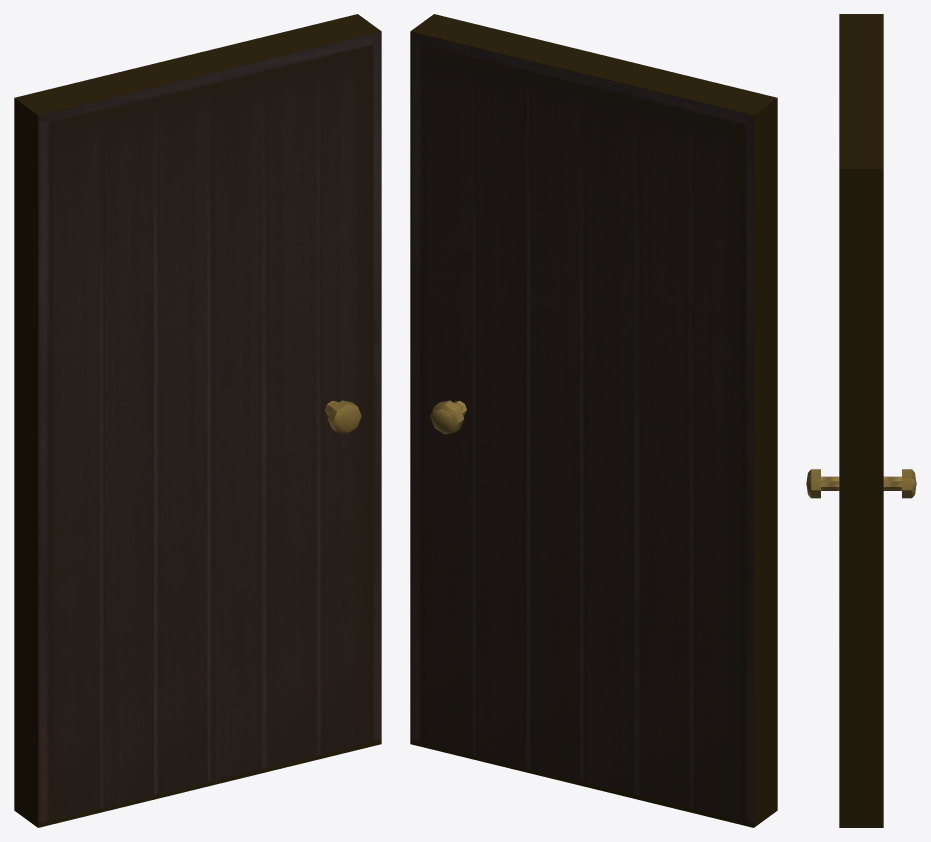
File: Door.fbx
3 views of the same model, side by side, from view 1: azimuth 30°, elevation 25°; view 2: azimuth 150°, elevation 25°; view 3: azimuth 270°, elevation 25° (orthographic). The views are drawn at different scales.
Visible parts, largest first — view 1: pCube15, pCylinder5; view 2: pCube15, pCylinder4; view 3: pCube15, pCylinder4, pCylinder5, pCylinder3, pCylinder6.
Boxes of the visible parts, left/top/right/bottom form: pCube15: left=14, top=14, right=381, bottom=827; pCylinder5: left=327, top=400, right=361, bottom=434; pCube15: left=410, top=14, right=777, bottom=827; pCylinder4: left=430, top=400, right=464, bottom=434; pCube15: left=839, top=14, right=883, bottom=827; pCylinder4: left=902, top=469, right=916, bottom=498; pCylinder5: left=806, top=469, right=820, bottom=498; pCylinder3: left=883, top=476, right=901, bottom=490; pCylinder6: left=821, top=476, right=839, bottom=490.
Bounding box in the file's own units: 1.39 × 2.76 × 0.4188.
